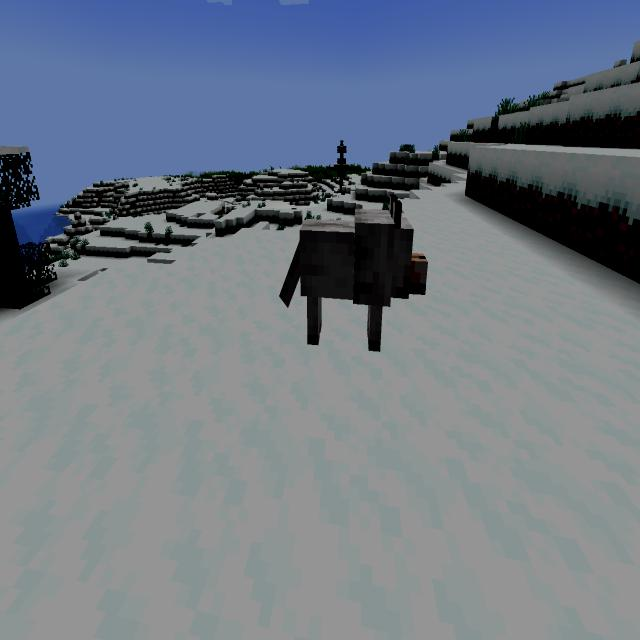Wolf: (268, 176, 436, 384)
